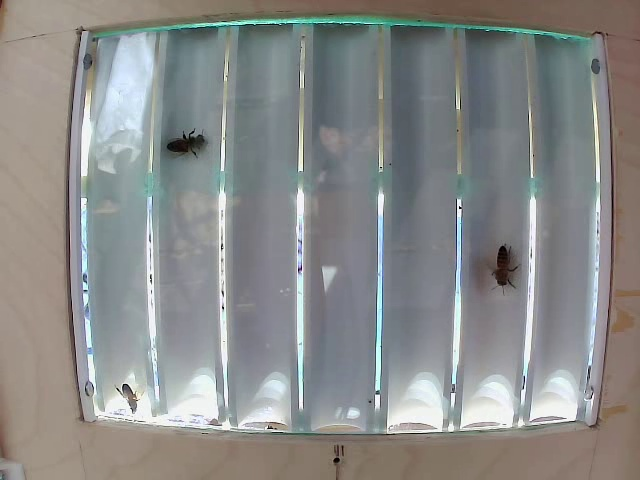bee: (486, 240, 527, 298), (161, 124, 206, 168)
